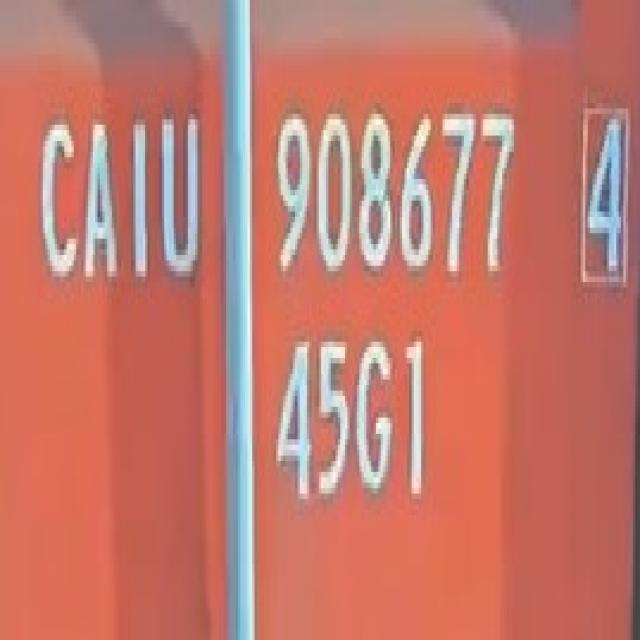dv: (564, 101, 640, 285)
owner: (31, 98, 211, 314)
serial: (264, 82, 530, 303)
size: (260, 311, 437, 521)
